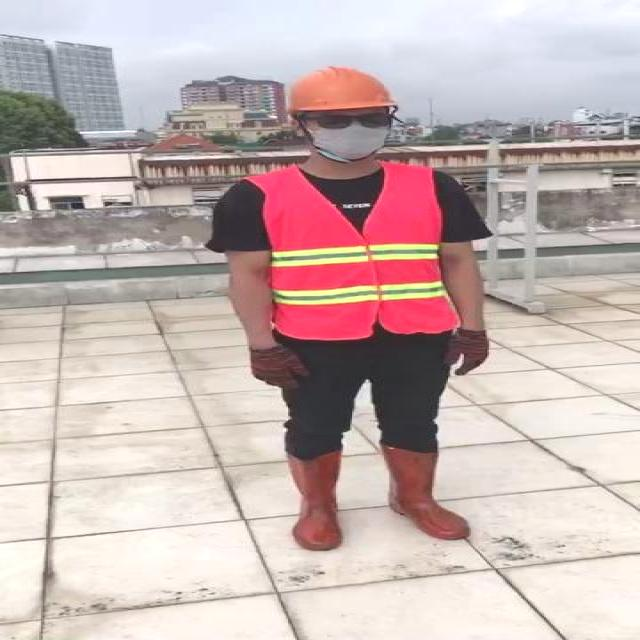boots: (380, 443, 473, 540), (281, 451, 348, 550)
face_mask: (306, 106, 394, 162)
glasses: (306, 106, 404, 138)
hand_glove: (252, 345, 308, 390), (444, 329, 489, 374)
head_helmet: (280, 63, 397, 116)
person: (222, 61, 496, 550)
vest: (258, 165, 457, 340)
